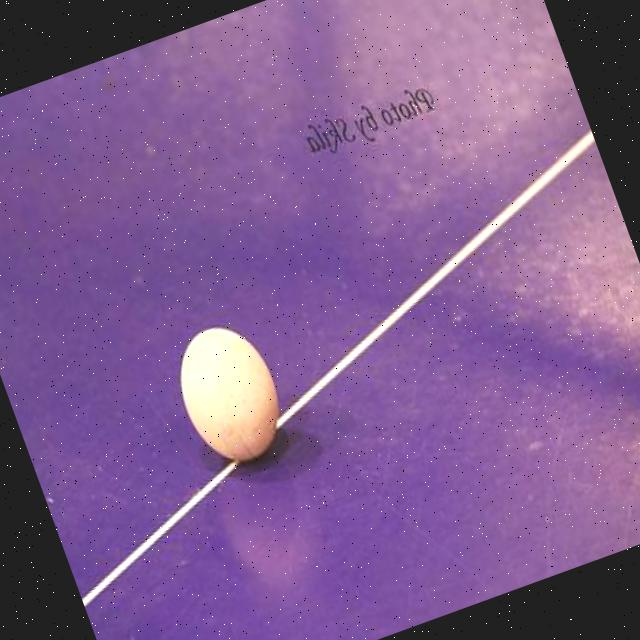ping-pong-ball: (160, 312, 297, 479)
